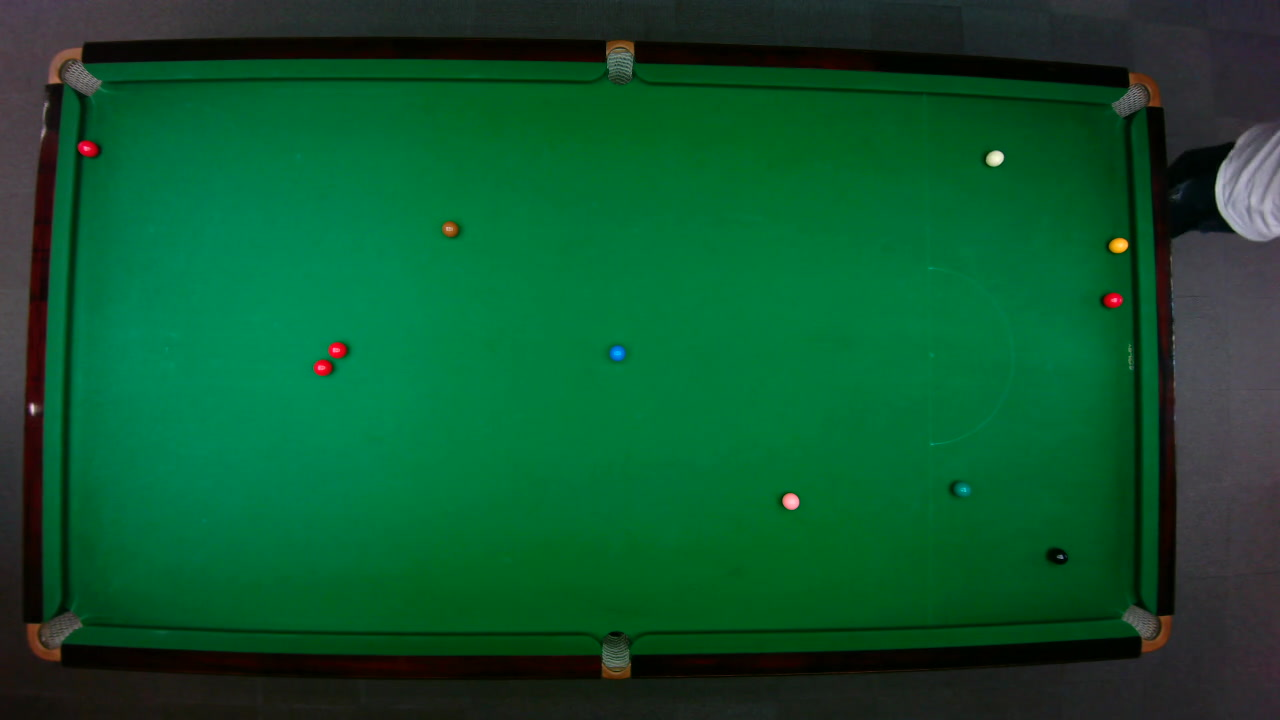bag: (25, 609, 83, 661), (45, 46, 102, 96), (1119, 602, 1172, 652), (1108, 71, 1161, 118), (600, 629, 630, 680), (605, 38, 633, 85)
black: (1047, 546, 1068, 565)
blue: (607, 343, 625, 361)
brown: (440, 220, 459, 237)
green: (951, 480, 972, 497)
pink: (780, 490, 800, 511)
red: (75, 139, 99, 158), (326, 340, 347, 359), (311, 358, 333, 376), (1101, 291, 1123, 308)
white: (983, 148, 1004, 166)
yellow: (1107, 236, 1129, 253)
zone: (927, 265, 1013, 445)
